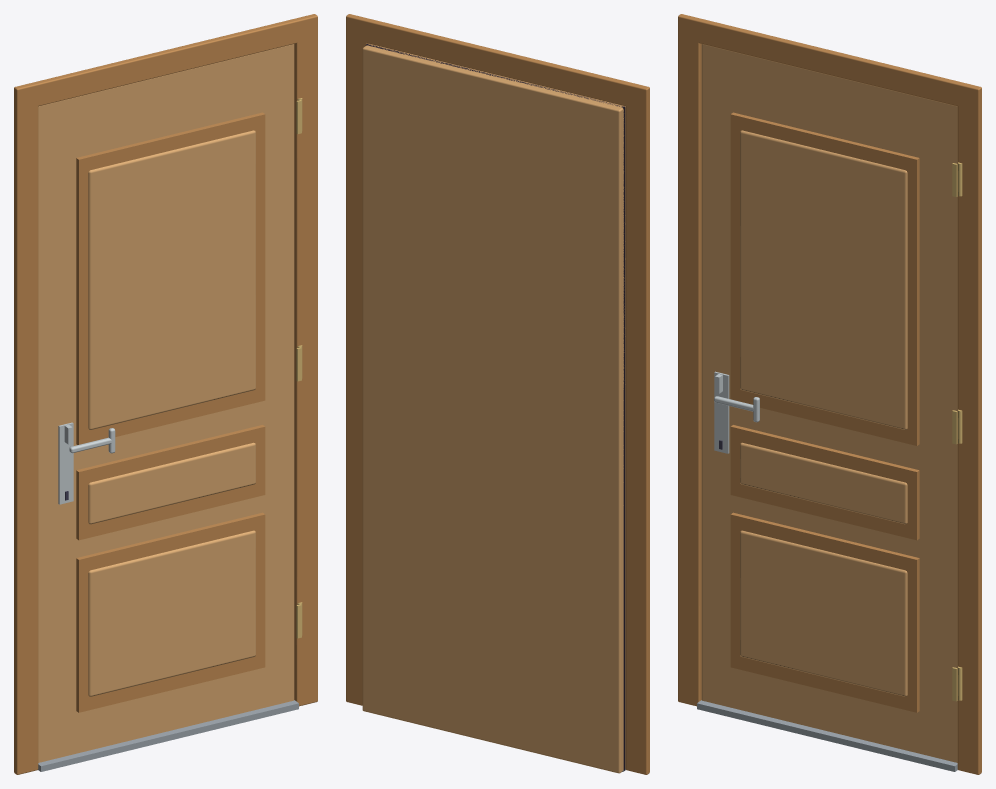
File: porte.glb
3 views of the same model, side by side, from view 1: azimuth 30°, elevation 25°; view 2: azimuth 150°, elevation 25°; view 3: azimuth 330°, elevation 25° (orthographic).
Parts seen in each view (by area): view 1: pivot_vantail, porte; view 2: pivot_vantail, porte; view 3: pivot_vantail, porte.
Part boxes in pixels (<box>): pivot_vantail: <box>38,44,294,762</box>; porte: <box>14,14,317,774</box>; pivot_vantail: <box>362,44,625,773</box>; porte: <box>346,14,649,774</box>; pivot_vantail: <box>701,44,957,762</box>; porte: <box>678,14,981,774</box>.
Size of the model in its own units: 0.97 by 2.11 by 0.102.
